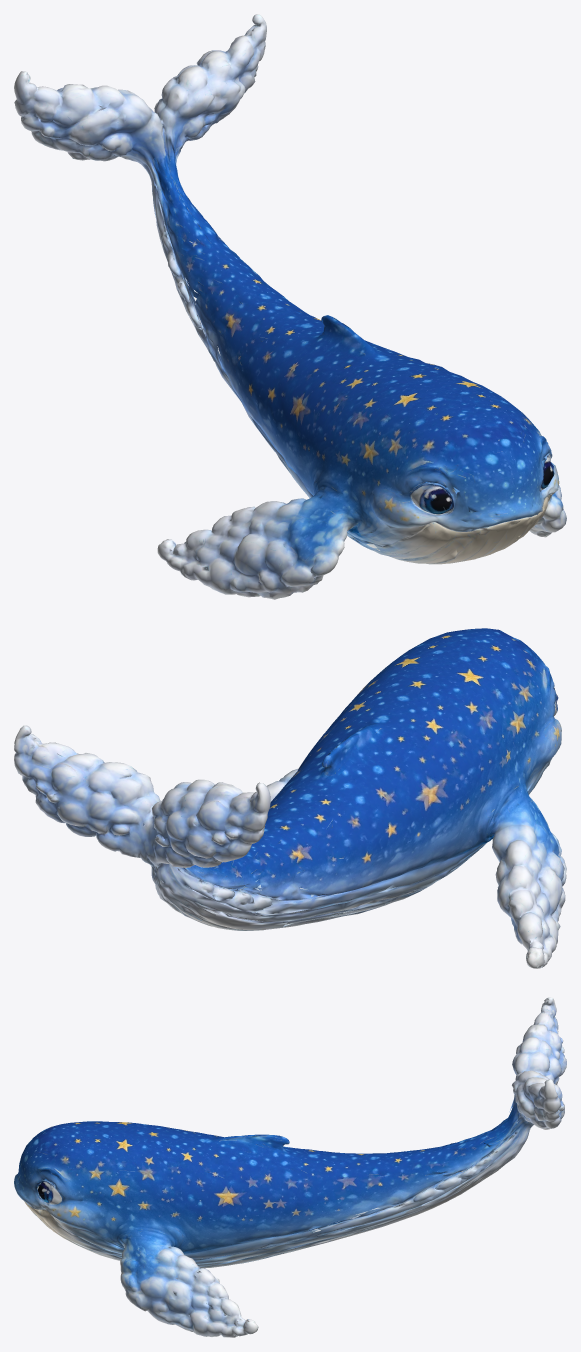
File: skywhale.glb
3 renders of one model, top to bottom at view 1: azimuth 30°, elevation 25°; view 2: azimuth 150°, elevation 25°; view 3: azimuth 270°, elevation 25°, orthographic. The views are drawn at different scales.
Parts seen in each view (by area): view 1: skywhale; view 2: skywhale; view 3: skywhale.
Boxes of the visible parts, x1,y1,x2,y2 form: skywhale: (14, 14, 566, 599); skywhale: (14, 628, 566, 968); skywhale: (14, 997, 566, 1337).
Bounding box in the file's own units: 2.85 × 2.4 × 4.96.
1 material, 1 textured.
